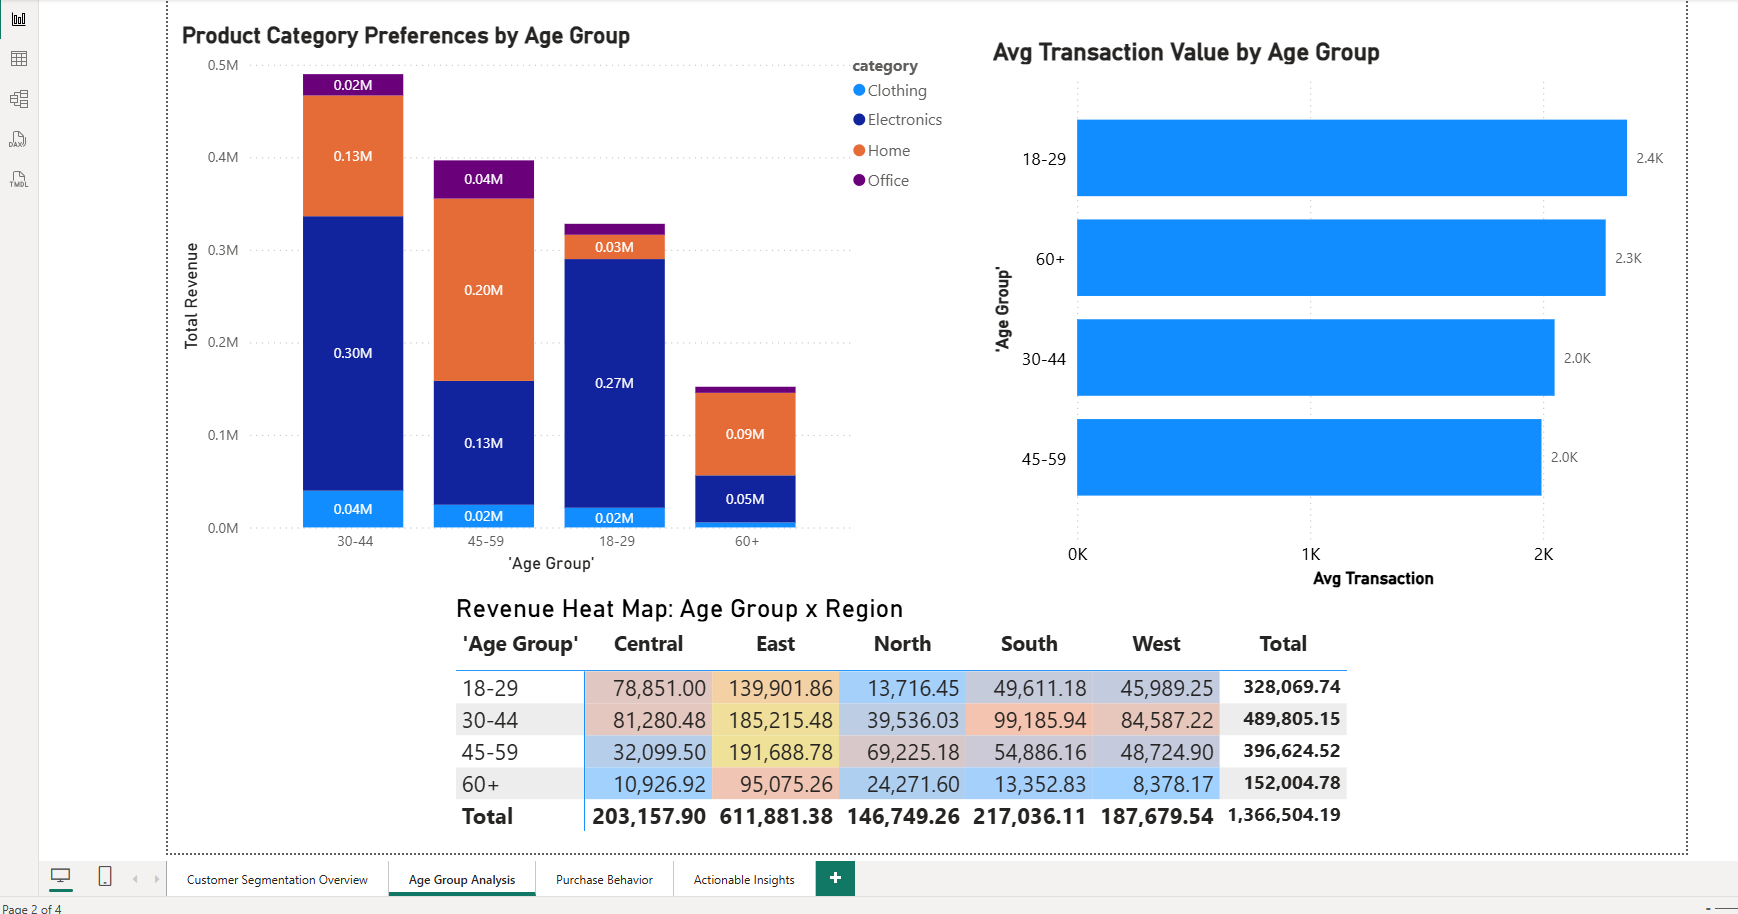

Layout of this report page (visuals, bound fields, positions):
{"tool":"powerbi","page":{"name":"Age Group Analysis","canvas":[1280,720],"ordinal":1},"visuals":[{"type":"columnChart","title":"Product Category Preferences by Age Group","fields":{"Category":["dim_customers.'Age Group'"],"Y":["dim_customers.Total Revenue"],"Series":["dim_products.category"]},"box":[6.6,19.7,660.1,469.1],"z":0},{"type":"pivotTable","title":"Revenue Heat Map: Age Group x Region","fields":{"Rows":["dim_customers.'Age Group'"],"Columns":["dim_customers.region"],"Values":["dim_customers.Total Revenue"]},"box":[237.8,501,804.3,219.1],"z":1000},{"type":"clusteredBarChart","title":"Avg Transaction Value by Age Group","fields":{"Category":["dim_customers.'Age Group'"],"Y":["dim_customers.Avg Transaction"]},"box":[690.1,31.8,589.9,469.1],"z":2000}]}

Visuals, with their boxes on the page's 1280x720 design canvas (x1, y1, x2, y2). These are canvas units, not pixel positions in the 1738x914 screenshot, which may show the page scaled, cropped or inside an application window:
"Product Category Preferences by Age Group" columnChart: bbox=(7, 20, 667, 489)
"Revenue Heat Map: Age Group x Region" pivotTable: bbox=(238, 501, 1042, 720)
"Avg Transaction Value by Age Group" clusteredBarChart: bbox=(690, 32, 1280, 501)
